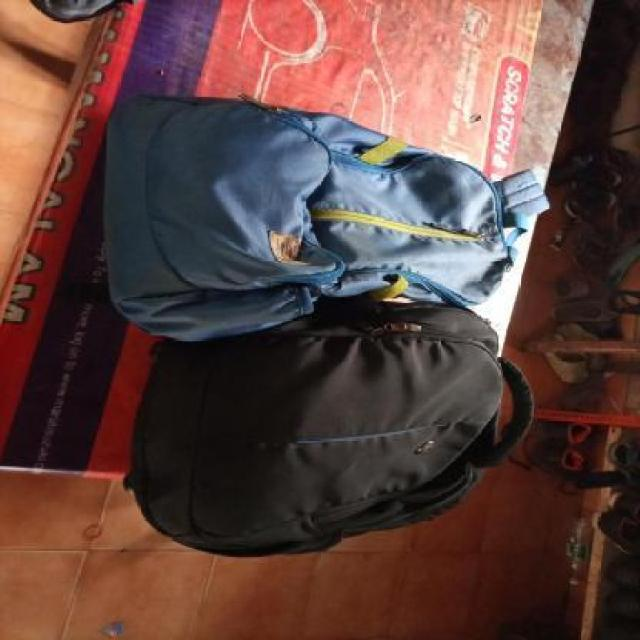backpack: (94, 84, 557, 344), (122, 302, 536, 563)
